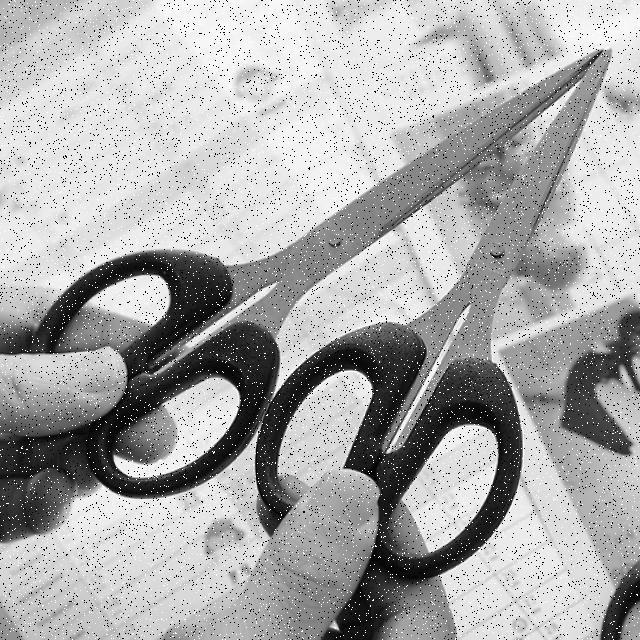scissors: (10, 36, 604, 563), (227, 39, 607, 602)
